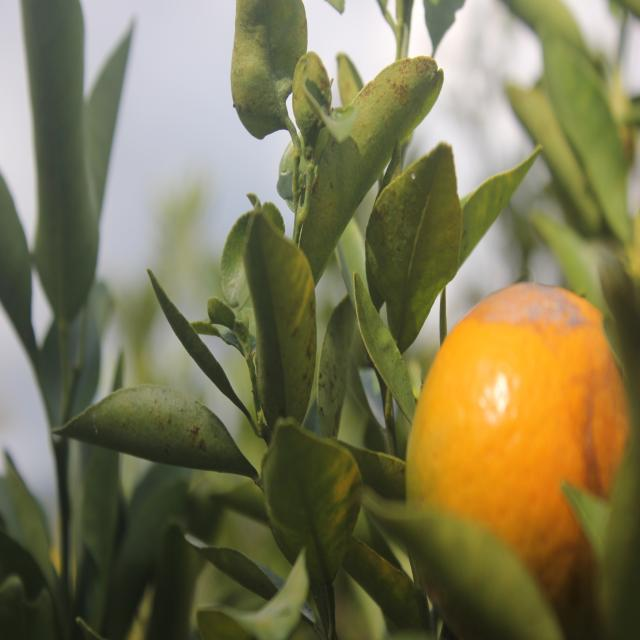melanose: (294, 57, 460, 214), (68, 378, 250, 498), (241, 229, 323, 430), (313, 288, 365, 456)
